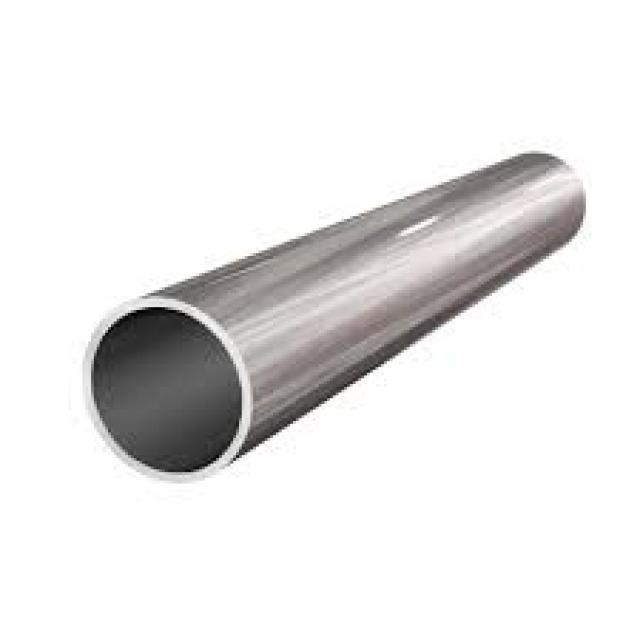pipe: (85, 297, 252, 474)
